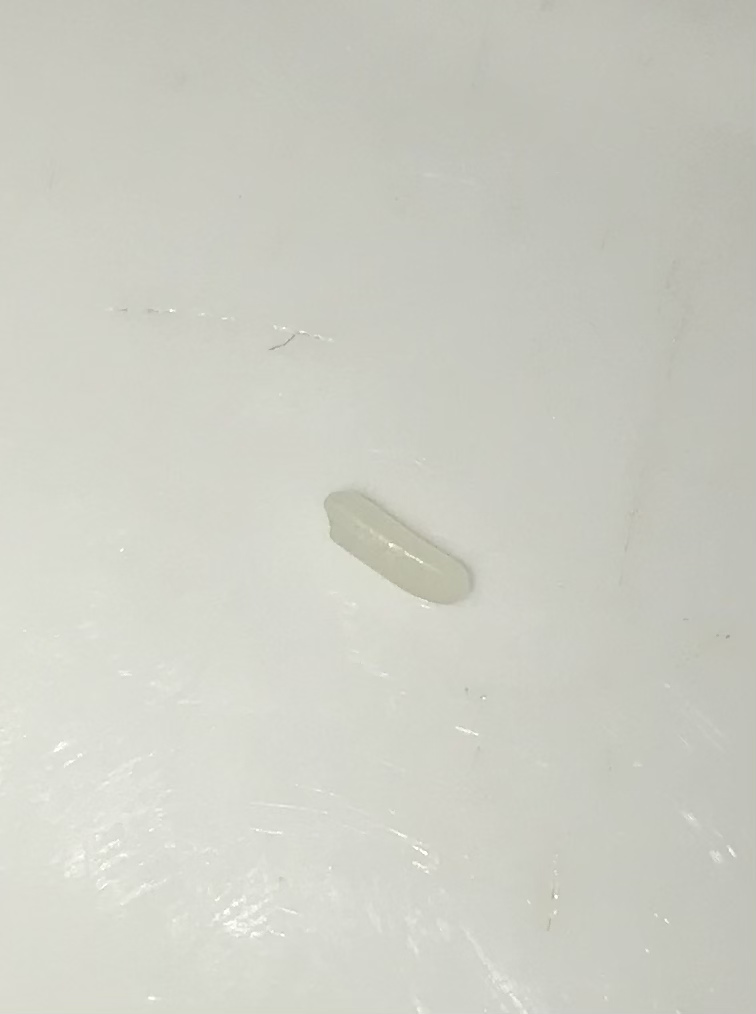Gao Ngoc Troi: (313, 471, 488, 625)
